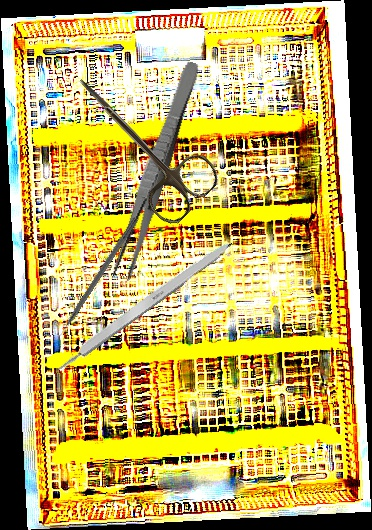Dressing Forceps: (109, 58, 203, 283)
Hook Surgical: (52, 215, 139, 344)
Iris Scissors: (51, 56, 225, 230)
Scalpel Handle: (53, 235, 235, 374)
